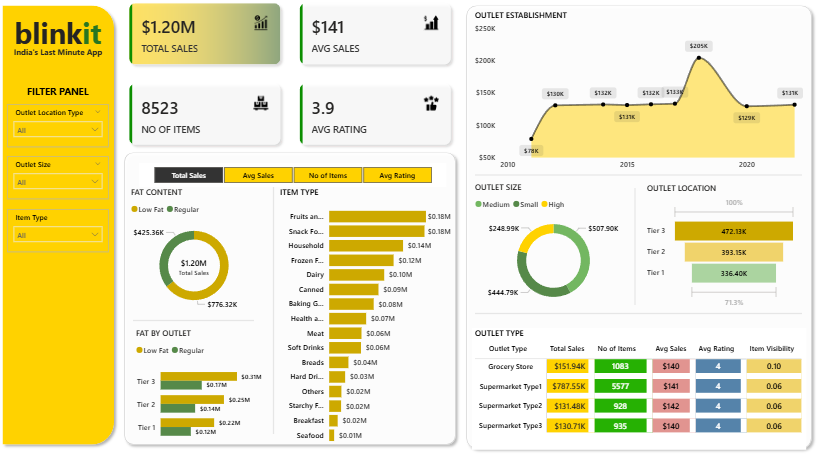

Layout of this report page (visuals, bound fields, positions):
{"tool":"powerbi","page":{"name":"Page 1","canvas":[1400,800],"ordinal":0},"visuals":[{"type":"shape","box":[22,24,204,750],"z":0},{"type":"textbox","box":[38,96,170,38],"z":1000},{"type":"textbox","box":[34,40,180,76],"z":2000},{"type":"cardVisual","fields":{"Data":["BlinkIT Grocery Data.Total Sales","BlinkIT Grocery Data.Avg Sales","BlinkIT Grocery Data.No of Items","BlinkIT Grocery Data.Avg Rating"]},"box":[225,11.7,570,270],"z":3000},{"type":"shape","box":[225,268.3,570,505],"z":4000},{"type":"cardVisual","fields":{"Data":["BlinkIT Grocery Data.Total Sales"]},"box":[306.7,435,86.7,68.3],"z":5000},{"type":"donutChart","title":"FAT CONTENT","fields":{"Category":["BlinkIT Grocery Data.Item Fat Content"],"Y":["BlinkIT Grocery Data.Total Sales"]},"box":[240,335,220,216.7],"z":6000},{"type":"slicer","fields":{"Values":["Metrics.Metrics"]},"box":[258.3,295,511.7,40],"z":7000},{"type":"clusteredBarChart","title":"FAT BY OUTLET","fields":{"Category":["BlinkIT Grocery Data.Outlet Location Type"],"Y":["BlinkIT Grocery Data.Total Sales"],"Series":["BlinkIT Grocery Data.Item Fat Content"]},"box":[248.3,570,220,201.7],"z":8000},{"type":"shape","box":[248.3,543.3,201.7,28.3],"z":9000},{"type":"shape","box":[476.7,335,11.7,411.7],"z":10000},{"type":"barChart","title":"ITEM TYPE","fields":{"Category":["BlinkIT Grocery Data.Item Type"],"Y":["BlinkIT Grocery Data.Total Sales"]},"box":[488.3,335,295,438.3],"z":11000},{"type":"shape","box":[795,23.3,593.3,756.7],"z":12000},{"type":"lineChart","title":"OUTLET ESTABLISHMENT","fields":{"Y":["BlinkIT Grocery Data.Total Sales"],"Category":["BlinkIT Grocery Data.Outlet Establishment Year"]},"box":[813.3,40,556.7,275],"z":13000},{"type":"shape","box":[818.3,541.7,545,8.3],"z":14000},{"type":"donutChart","title":"OUTLET SIZE","fields":{"Y":["BlinkIT Grocery Data.Total Sales"],"Category":["BlinkIT Grocery Data.Outlet Size"]},"box":[813.3,326.7,271.7,216.7],"z":15000},{"type":"shape","box":[1078.3,336.7,13.3,195],"z":16000},{"type":"funnel","title":"OUTLET LOCATION","fields":{"Y":["Sum(BlinkIT Grocery Data.Sales)"],"Category":["BlinkIT Grocery Data.Outlet Location Type"]},"box":[1100,328.3,258.3,213.3],"z":17000},{"type":"shape","box":[818.3,310,545,10],"z":18000},{"type":"pivotTable","title":"OUTLET TYPE","fields":{"Rows":["BlinkIT Grocery Data.Outlet Type"],"Values":["BlinkIT Grocery Data.Total Sales","BlinkIT Grocery Data.No of Items","BlinkIT Grocery Data.Avg Sales","BlinkIT Grocery Data.Avg Rating","Avg(BlinkIT Grocery Data.Item Visibility)"]},"box":[813.3,570,556.7,203.3],"z":19000},{"type":"slicer","fields":{"Values":["BlinkIT Grocery Data.Outlet Location Type"]},"box":[38.3,196.7,170,71.7],"z":20000},{"type":"slicer","fields":{"Values":["BlinkIT Grocery Data.Outlet Size"]},"box":[38.3,283.3,170,71.7],"z":21000},{"type":"slicer","fields":{"Values":["BlinkIT Grocery Data.Item Type"]},"box":[38.3,371.7,170,71.7],"z":22000},{"type":"textbox","box":[66.7,160,113.3,35],"z":22001}]}

Visuals, with their boxes in screenshot pixels (x1, y1, x2, y2), scaled from the page's 1400x800 canvas onto the 817x454 screenshot:
shape: pyautogui.locateOnScreen(13, 14, 132, 439)
textbox: pyautogui.locateOnScreen(22, 54, 121, 76)
textbox: pyautogui.locateOnScreen(20, 23, 125, 66)
cardVisual - BlinkIT Grocery Data.Total Sales x BlinkIT Grocery Data.Avg Sales: pyautogui.locateOnScreen(131, 7, 464, 160)
shape: pyautogui.locateOnScreen(131, 152, 464, 439)
cardVisual - BlinkIT Grocery Data.Total Sales: pyautogui.locateOnScreen(179, 247, 230, 286)
"FAT CONTENT" donutChart: pyautogui.locateOnScreen(140, 190, 268, 313)
slicer - Metrics.Metrics: pyautogui.locateOnScreen(151, 167, 449, 190)
"FAT BY OUTLET" clusteredBarChart: pyautogui.locateOnScreen(145, 323, 273, 438)
shape: pyautogui.locateOnScreen(145, 308, 263, 324)
shape: pyautogui.locateOnScreen(278, 190, 285, 424)
"ITEM TYPE" barChart: pyautogui.locateOnScreen(285, 190, 457, 439)
shape: pyautogui.locateOnScreen(464, 13, 810, 443)
"OUTLET ESTABLISHMENT" lineChart: pyautogui.locateOnScreen(475, 23, 799, 179)
shape: pyautogui.locateOnScreen(478, 307, 796, 312)
"OUTLET SIZE" donutChart: pyautogui.locateOnScreen(475, 185, 633, 308)
shape: pyautogui.locateOnScreen(629, 191, 637, 302)
"OUTLET LOCATION" funnel: pyautogui.locateOnScreen(642, 186, 793, 307)
shape: pyautogui.locateOnScreen(478, 176, 796, 182)
"OUTLET TYPE" pivotTable: pyautogui.locateOnScreen(475, 323, 799, 439)
slicer - BlinkIT Grocery Data.Outlet Location Type: pyautogui.locateOnScreen(22, 112, 122, 152)
slicer - BlinkIT Grocery Data.Outlet Size: pyautogui.locateOnScreen(22, 161, 122, 201)
slicer - BlinkIT Grocery Data.Item Type: pyautogui.locateOnScreen(22, 211, 122, 252)
textbox: pyautogui.locateOnScreen(39, 91, 105, 111)
